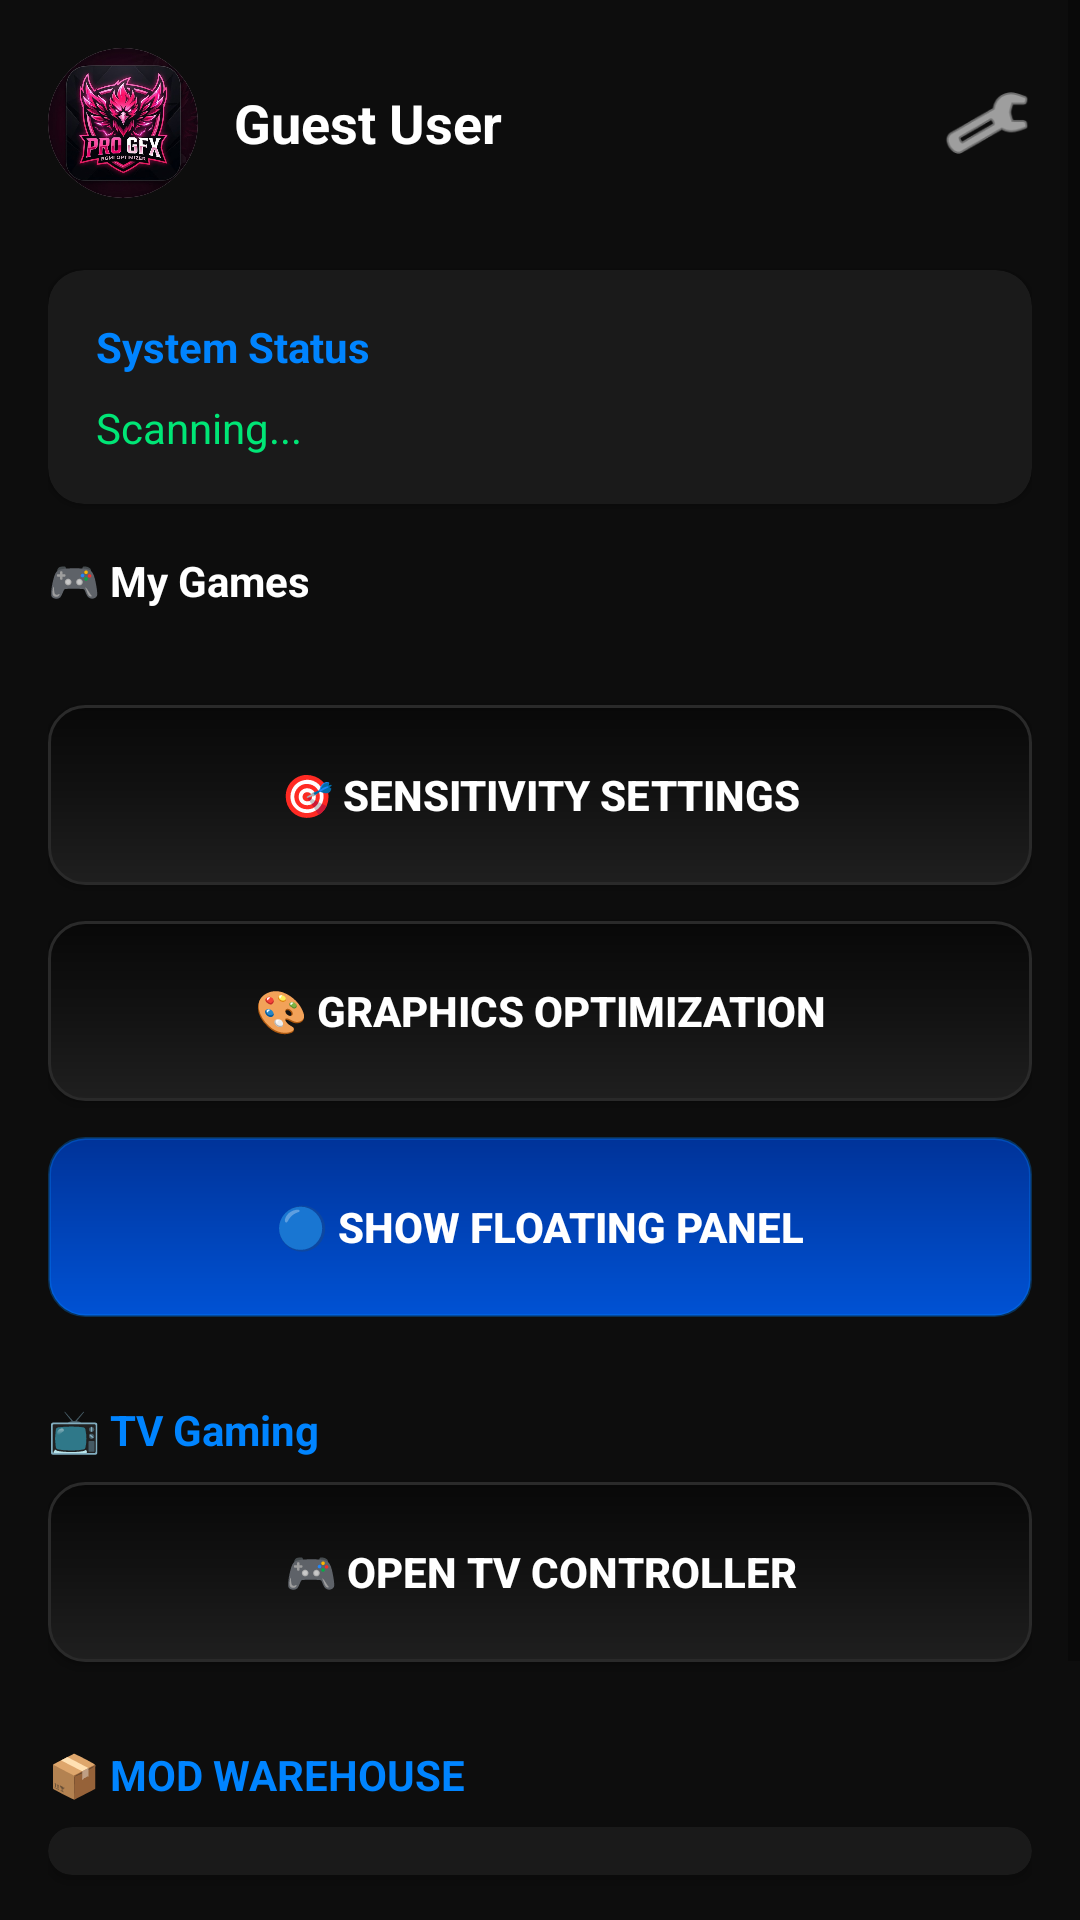

Icons on this 1080px×1920px Android screen, each with the point to tap as (x=x, y=y):
preferences: (x=987, y=123)
